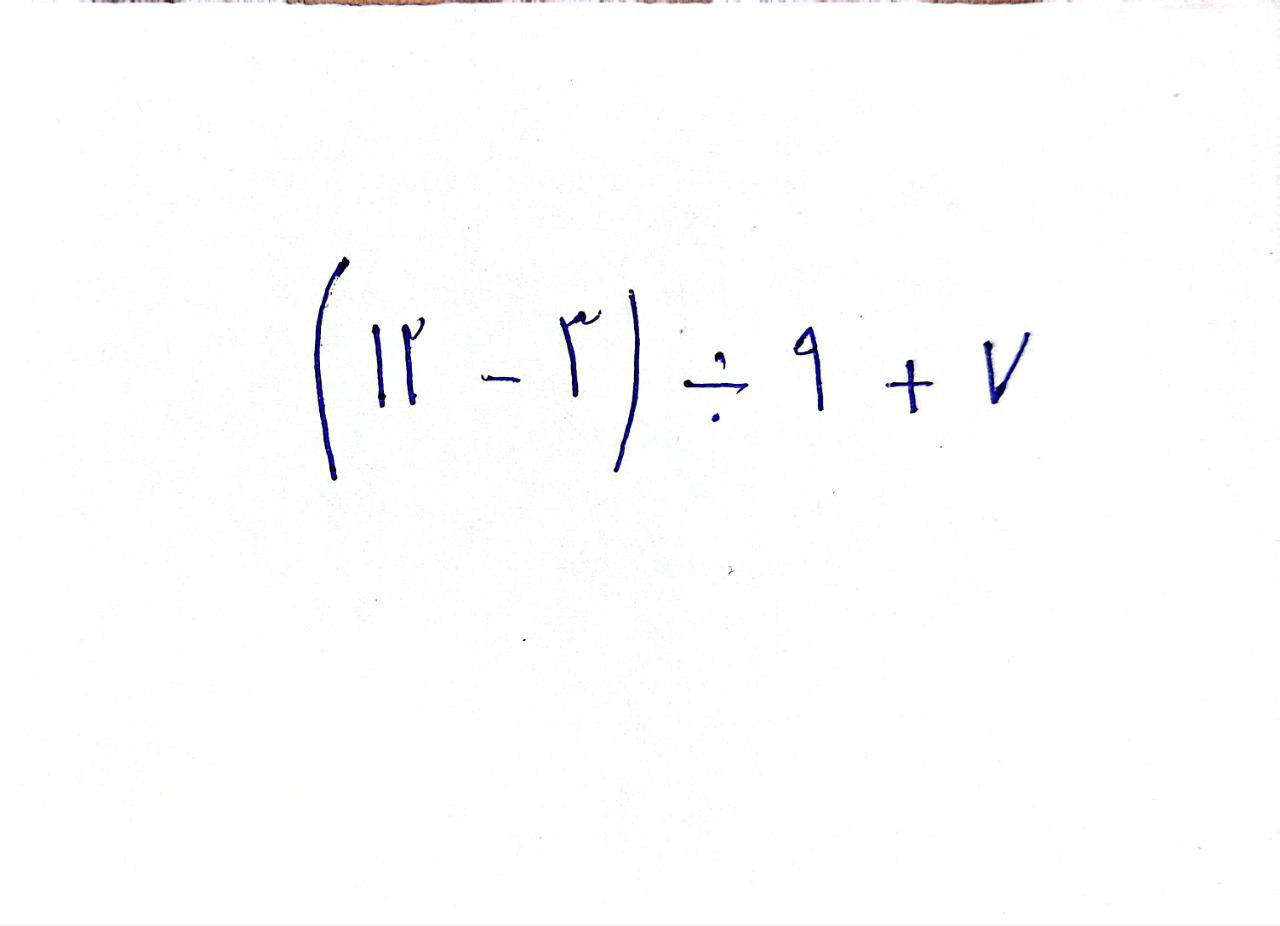character: (309, 255, 352, 485), (609, 288, 645, 475), (684, 350, 750, 424), (556, 306, 609, 398), (980, 331, 1035, 411), (880, 359, 936, 419), (791, 327, 827, 413), (400, 314, 428, 406), (370, 324, 390, 411), (477, 373, 523, 388)
